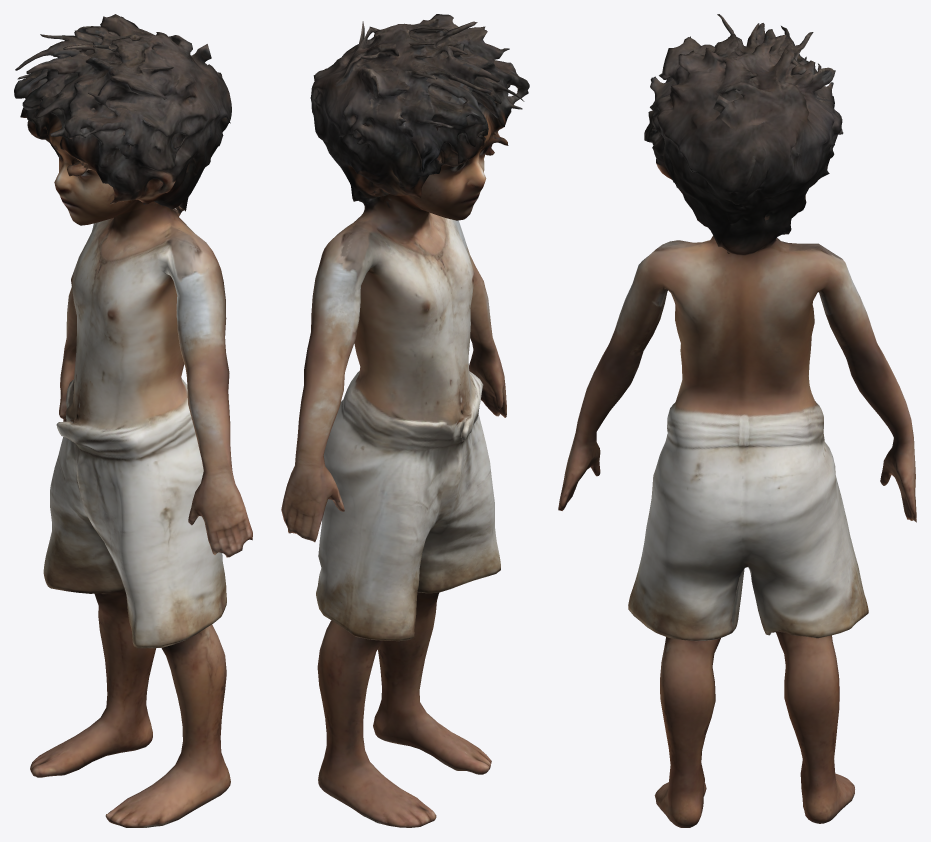
File: SMALL_BOY.fbx
3 renders of one model, left to right at view 1: azimuth 30°, elevation 25°; view 2: azimuth 150°, elevation 25°; view 3: azimuth 270°, elevation 25°, orthographic.
Visible parts, largest first — view 1: Mesh1_Mesh1.066; view 2: Mesh1_Mesh1.066; view 3: Mesh1_Mesh1.066.
Part boxes in pixels (box(x1,y1,x2,y2)): Mesh1_Mesh1.066: box(14, 14, 252, 827); Mesh1_Mesh1.066: box(281, 14, 529, 827); Mesh1_Mesh1.066: box(558, 14, 916, 827).
Bounding box in the file's own units: 168 × 619 × 261.
Materials: 1 (1 with a texture image).
